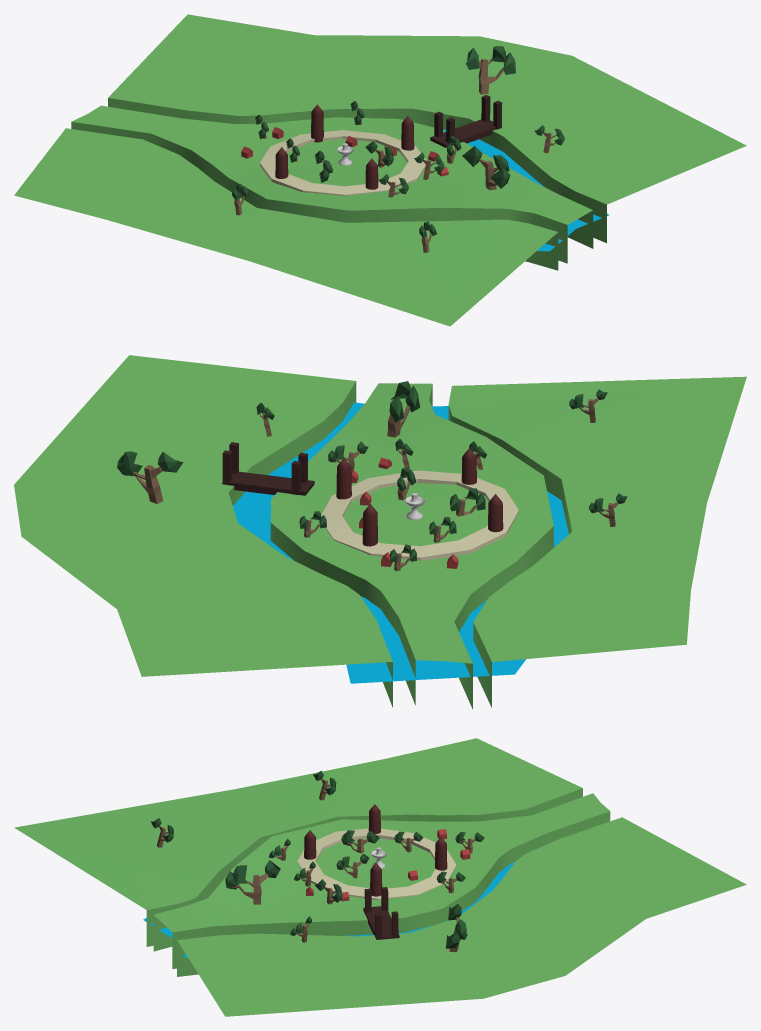
The model's file is pueblo.fbx.
3 views of the same model, one above another, from view 1: azimuth 30°, elevation 25°; view 2: azimuth 150°, elevation 25°; view 3: azimuth 270°, elevation 25° (orthographic). The views are drawn at different scales.
Parts seen in each view (by area): view 1: terreno, caminito1, puente1, arbol1, arbol3, lago1; view 2: terreno, lago1, caminito1, puente1, arbol1, arbol3, taller2, taller1; view 3: terreno, caminito1, puente1, arbol3, arbol1, lago1.
Part boxes in pixels (bbox=[...]): terreno: bbox=[14, 14, 746, 326]; caminito1: bbox=[260, 130, 425, 195]; puente1: bbox=[430, 95, 502, 147]; arbol1: bbox=[465, 46, 515, 94]; arbol3: bbox=[462, 146, 510, 190]; lago1: bbox=[443, 129, 609, 251]; terreno: bbox=[14, 355, 746, 709]; lago1: bbox=[233, 402, 568, 683]; caminito1: bbox=[321, 470, 518, 560]; puente1: bbox=[222, 442, 314, 495]; arbol1: bbox=[117, 451, 183, 503]; arbol3: bbox=[387, 381, 419, 437]; taller2: bbox=[362, 504, 377, 546]; taller1: bbox=[336, 458, 351, 499]; terreno: bbox=[14, 738, 746, 1016]; caminito1: bbox=[297, 828, 456, 900]; puente1: bbox=[363, 887, 399, 939]; arbol3: bbox=[225, 860, 280, 904]; arbol1: bbox=[445, 904, 467, 952]; lago1: bbox=[143, 862, 514, 957].
Size of the model in its own units: 0.3908 by 0.4344 by 0.0524.
